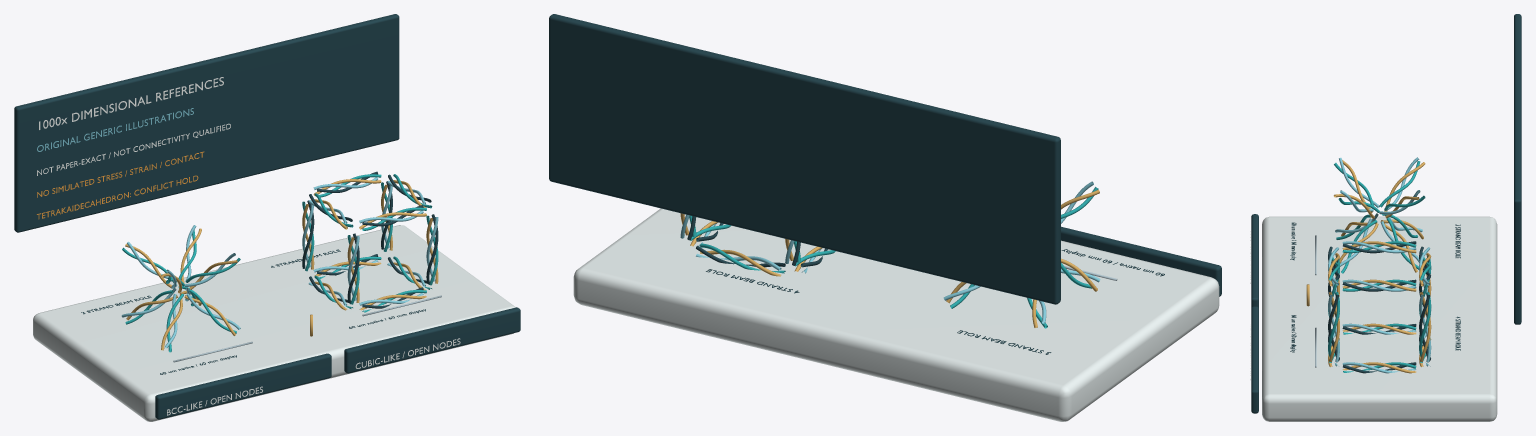
The model's file is woven_reference_display.glb.
3 views of the same model, side by side, from view 1: azimuth 30°, elevation 25°; view 2: azimuth 150°, elevation 25°; view 3: azimuth 270°, elevation 25° (orthographic). The views are drawn at different scales.
Parts seen in each view (by area): view 1: display.info_panel, display.plinth, display.BCC.label.plate, display.CUBIC.label.plate, display.info_title, display.not_exact, display.original, display.no_physics, display.hold; view 2: display.info_panel, display.plinth, display.BCC.label.plate; view 3: display.plinth, display.info_panel, display.CUBIC.label.plate, display.BCC.label.plate.
Part boxes in pixels (bbox=[...]): display.info_panel: bbox=[14, 14, 399, 232]; display.plinth: bbox=[33, 225, 515, 421]; display.BCC.label.plate: bbox=[155, 353, 331, 419]; display.CUBIC.label.plate: bbox=[344, 307, 520, 373]; display.info_title: bbox=[39, 77, 223, 129]; display.not_exact: bbox=[37, 123, 230, 175]; display.original: bbox=[37, 108, 193, 151]; display.no_physics: bbox=[37, 151, 204, 197]; display.hold: bbox=[36, 175, 198, 219]; display.info_panel: bbox=[549, 14, 1060, 304]; display.plinth: bbox=[573, 208, 1219, 421]; display.BCC.label.plate: bbox=[1061, 226, 1221, 296]; display.plinth: bbox=[1262, 216, 1497, 421]; display.info_panel: bbox=[1514, 14, 1521, 324]; display.CUBIC.label.plate: bbox=[1251, 306, 1258, 413]; display.BCC.label.plate: bbox=[1251, 214, 1258, 308].
Size of the model in its own units: 0.292 by 0.1645 by 0.1786.
